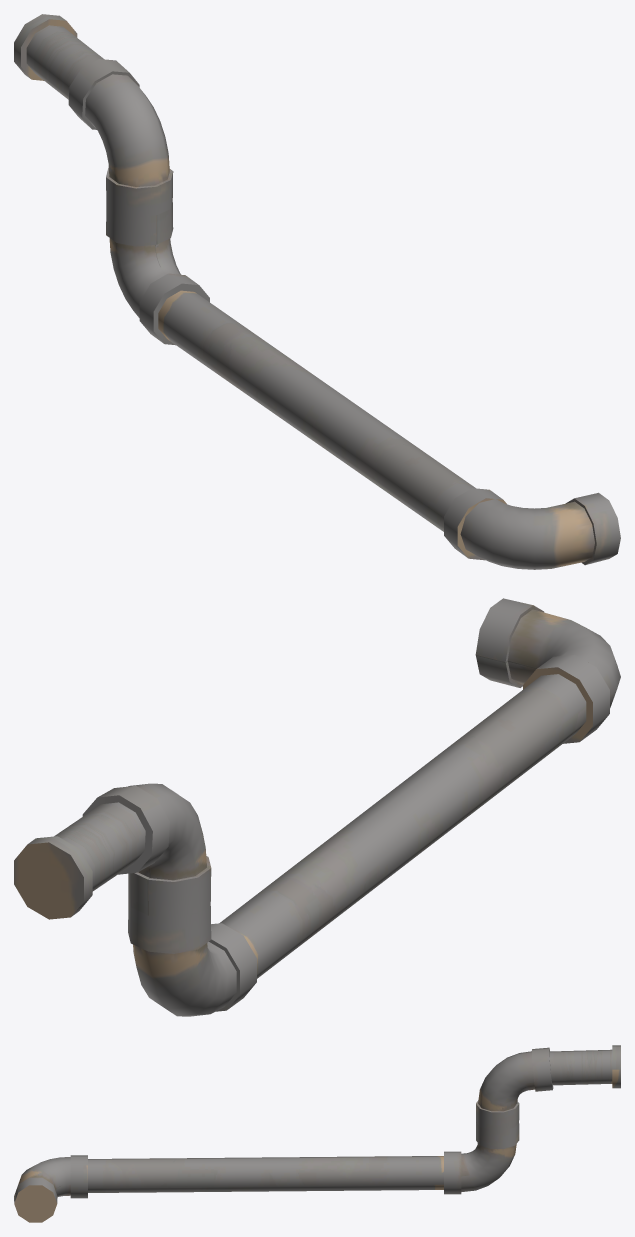
The model's file is props_mining_ceiling_pipe06_thick.glb.
The picture shows the model from 3 angles, top to bottom: view 1: azimuth 30°, elevation 25°; view 2: azimuth 150°, elevation 25°; view 3: azimuth 270°, elevation 25°; orthographic projection. The views are drawn at different scales.
Visible parts, largest first — view 1: models/props_mining/ceiling_pipe06_thick; view 2: models/props_mining/ceiling_pipe06_thick; view 3: models/props_mining/ceiling_pipe06_thick.
Part boxes in pixels (x1,y1,x2,y2): models/props_mining/ceiling_pipe06_thick: (14, 14, 620, 569); models/props_mining/ceiling_pipe06_thick: (14, 598, 620, 1016); models/props_mining/ceiling_pipe06_thick: (14, 1045, 620, 1222).
Size of the model in its own units: 21.6 by 37.09 by 139.
1 material, 1 textured.
